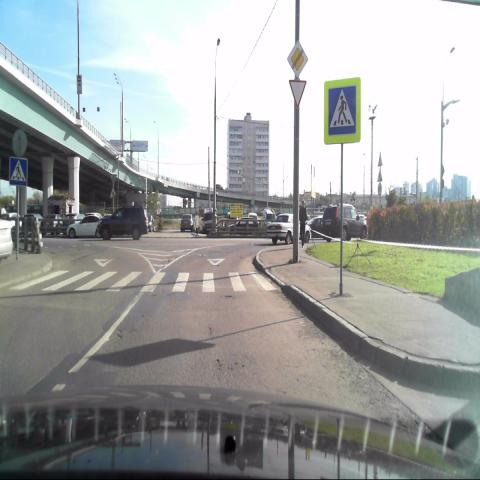2_2: (288, 39, 308, 77)
